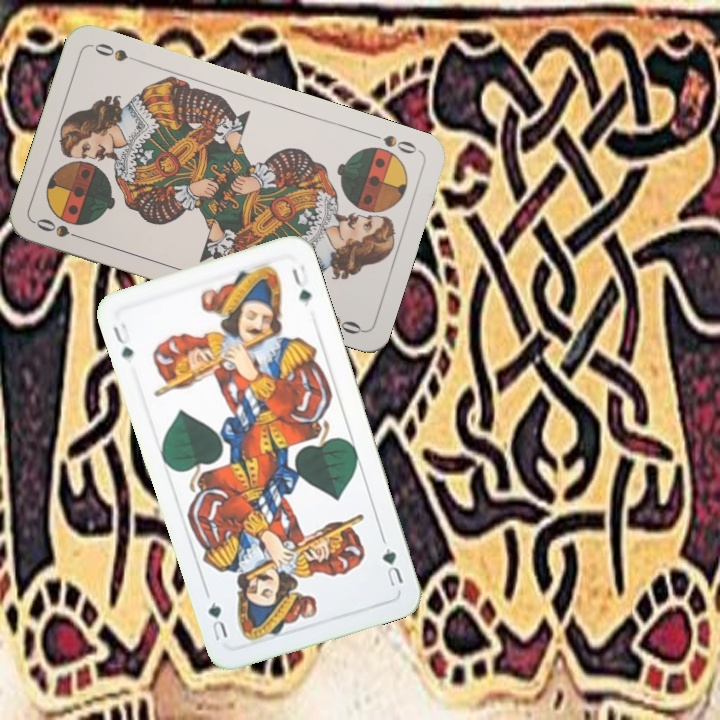GU: (378, 543, 406, 589), (109, 318, 136, 361)
SO: (32, 214, 89, 243), (365, 129, 423, 157)
